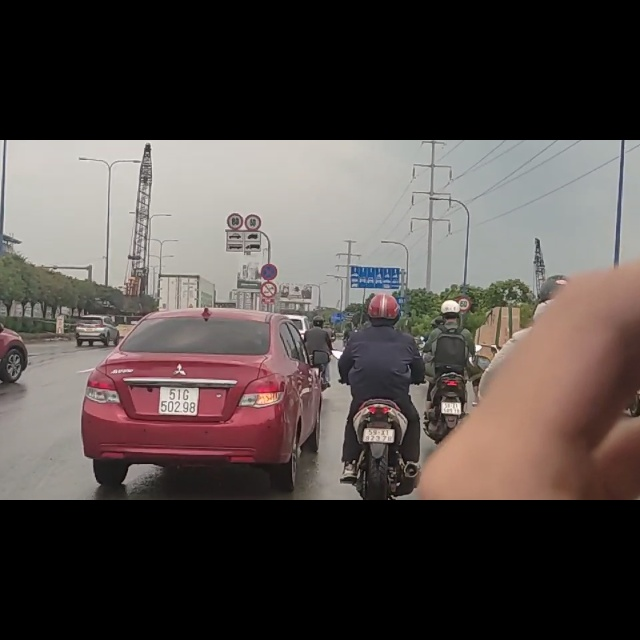bien_cam: (260, 219, 278, 249)
